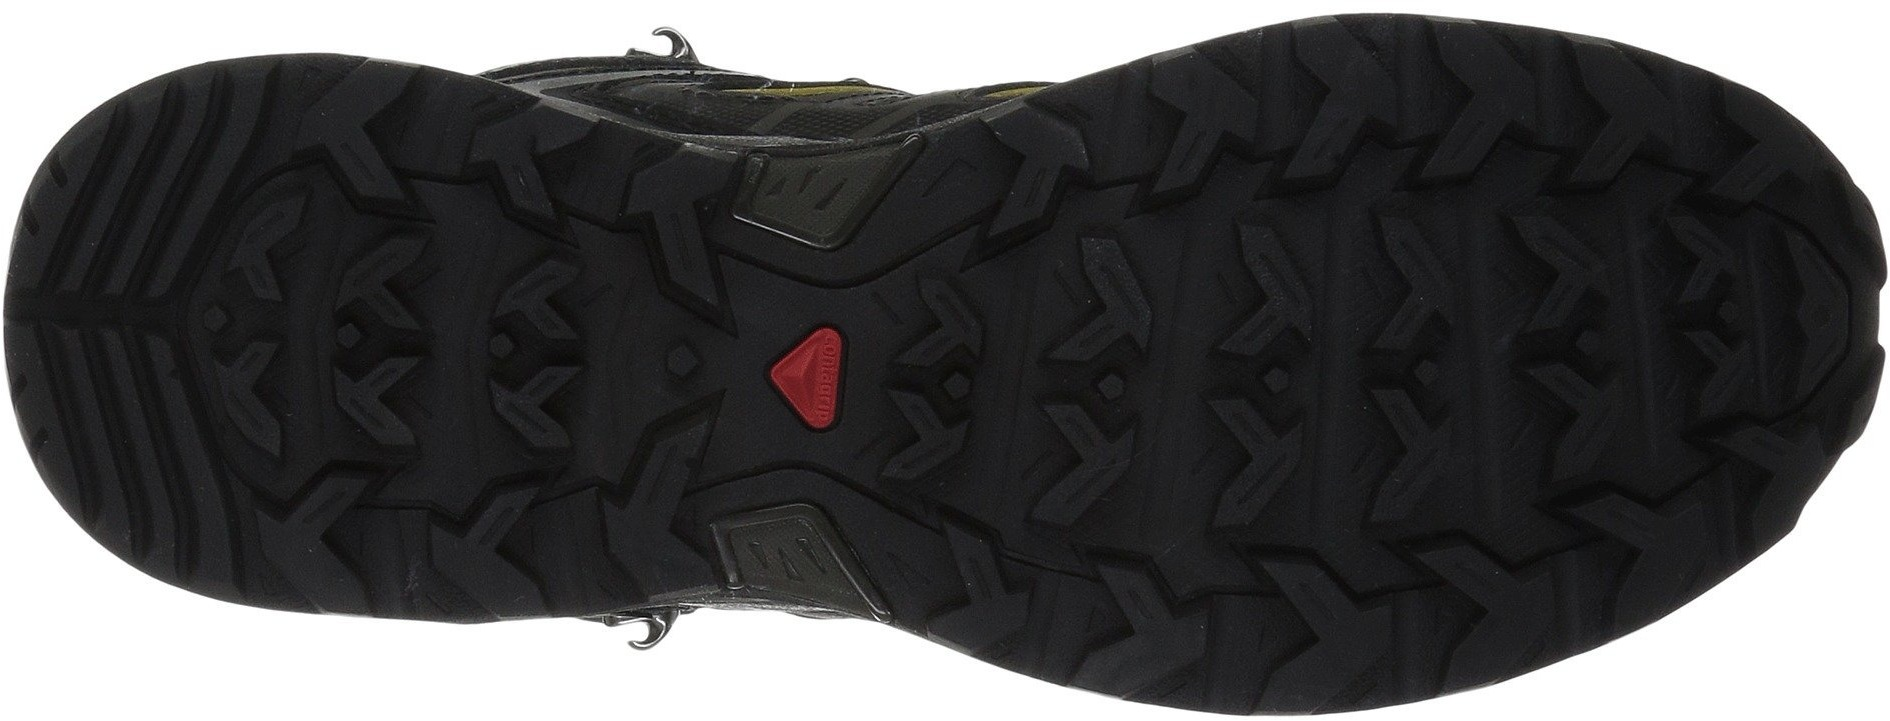chevron: (1133, 194, 1503, 547), (1490, 188, 1794, 491), (859, 234, 1161, 532), (297, 344, 586, 610), (315, 96, 582, 344), (19, 212, 230, 424), (1666, 225, 1857, 421), (1260, 23, 1433, 194), (1242, 541, 1405, 707)
exclude: (465, 578, 1022, 719)
triangle: (721, 310, 863, 451)
